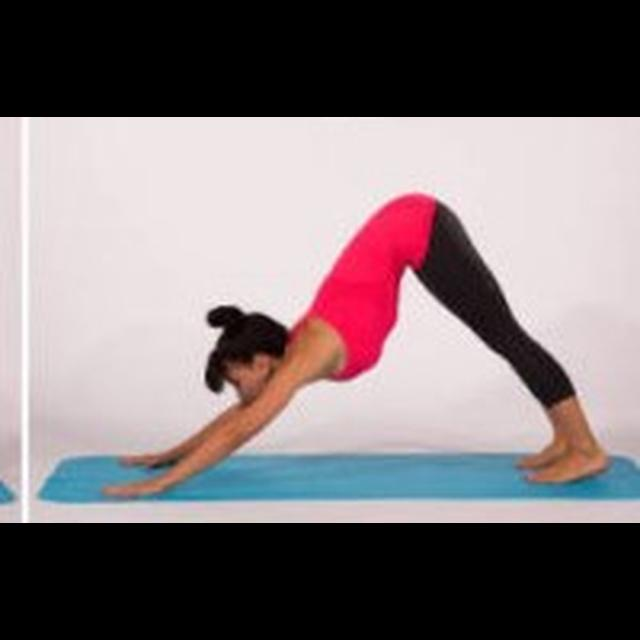Downward-Facing_Dog: (97, 185, 610, 497)
